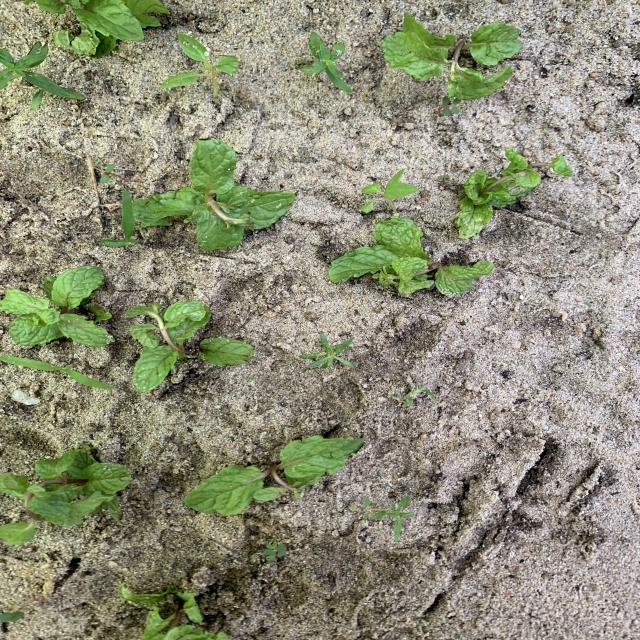crop: (184, 436, 364, 514), (329, 216, 493, 295), (0, 448, 130, 543), (382, 15, 521, 100), (126, 301, 253, 391), (456, 149, 571, 237), (0, 266, 112, 347), (35, 1, 167, 55), (119, 585, 228, 639), (26, 144, 36, 151)
weed: (132, 139, 295, 250), (161, 33, 238, 104), (1, 45, 83, 99), (0, 356, 111, 387), (299, 32, 351, 91), (360, 169, 418, 216), (358, 496, 413, 541), (100, 188, 139, 247), (299, 335, 355, 367), (93, 160, 115, 183), (453, 1, 489, 15), (264, 543, 286, 562), (439, 96, 459, 116)
